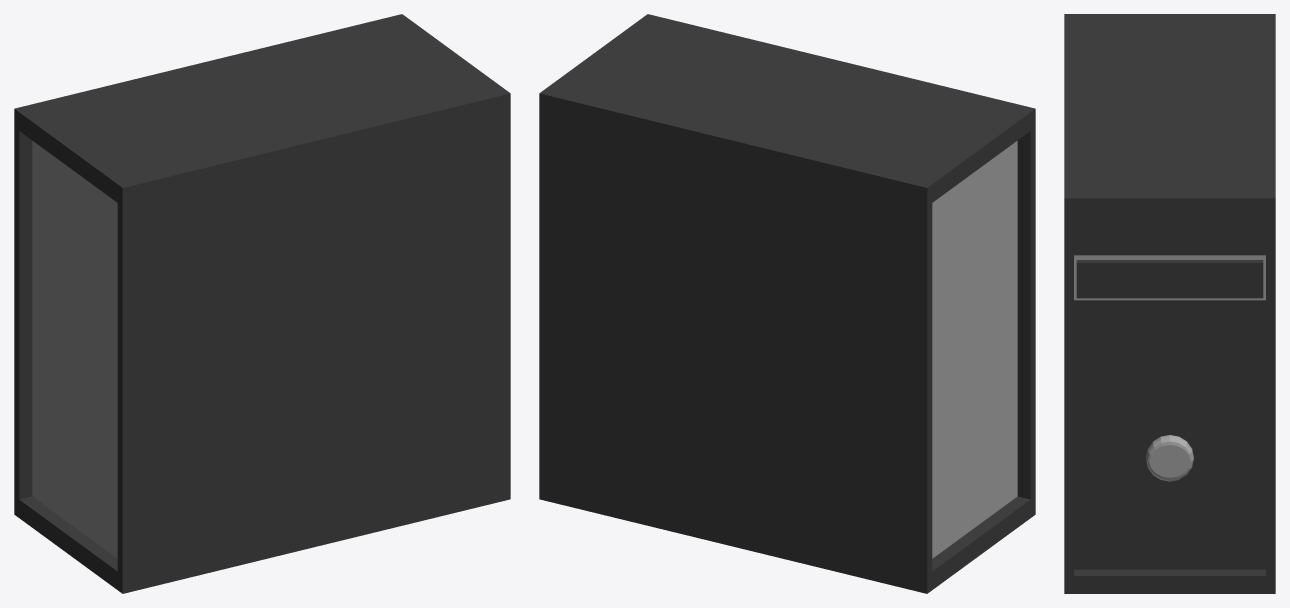
3 views of the same model, side by side, from view 1: azimuth 30°, elevation 25°; view 2: azimuth 150°, elevation 25°; view 3: azimuth 270°, elevation 25° (orthographic). The views are drawn at different scales.
Visible parts, largest first — view 1: Cube; view 2: Cube; view 3: Cube.
Part boxes in pixels (box(x1,y1,x2,y2)): Cube: box(14, 14, 510, 593); Cube: box(539, 14, 1035, 593); Cube: box(1064, 14, 1275, 593).
Size of the model in its own units: 0.892 by 0.892 by 0.432.
Materials: 2 (2 with a texture image).
